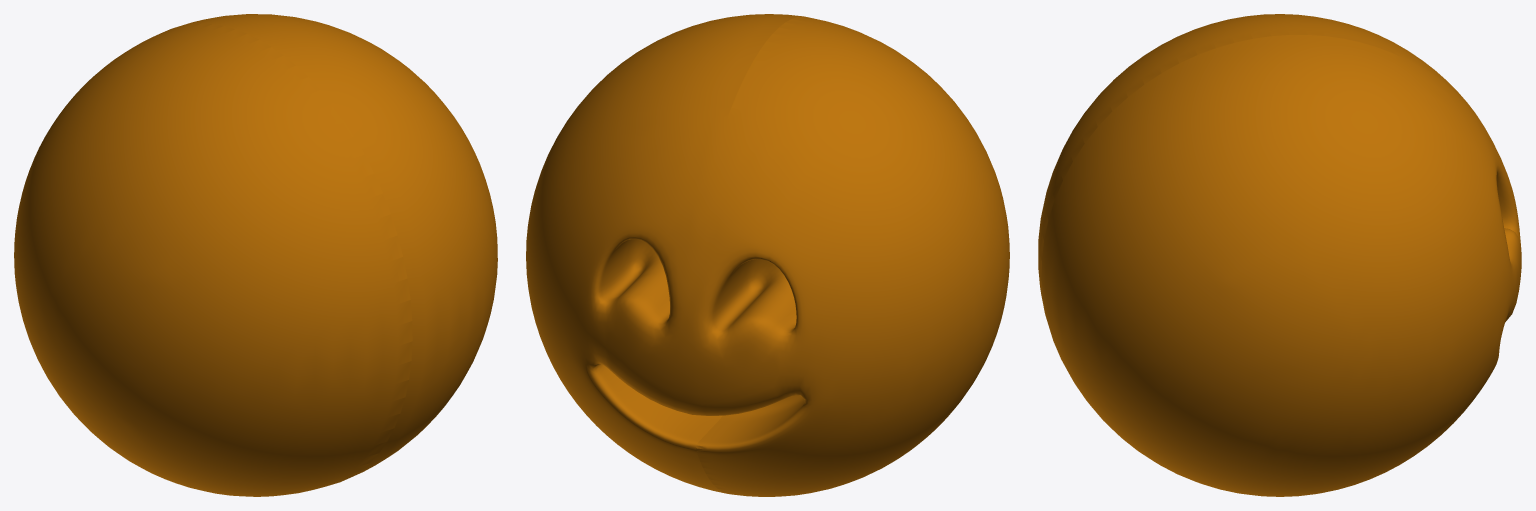
File: smile 3DS.fbx
The picture shows the model from 3 angles, left to right: view 1: azimuth 30°, elevation 25°; view 2: azimuth 150°, elevation 25°; view 3: azimuth 270°, elevation 25°; orthographic projection.
Visible parts, largest first — view 1: Group38964; view 2: Group38964; view 3: Group38964.
Boxes of the visible parts, box(x1,y1,x2,y2) form: Group38964: box(14, 14, 497, 496); Group38964: box(526, 14, 1009, 496); Group38964: box(1038, 14, 1521, 496).
Size of the model in its own units: 50.61 by 50.56 by 50.61.
